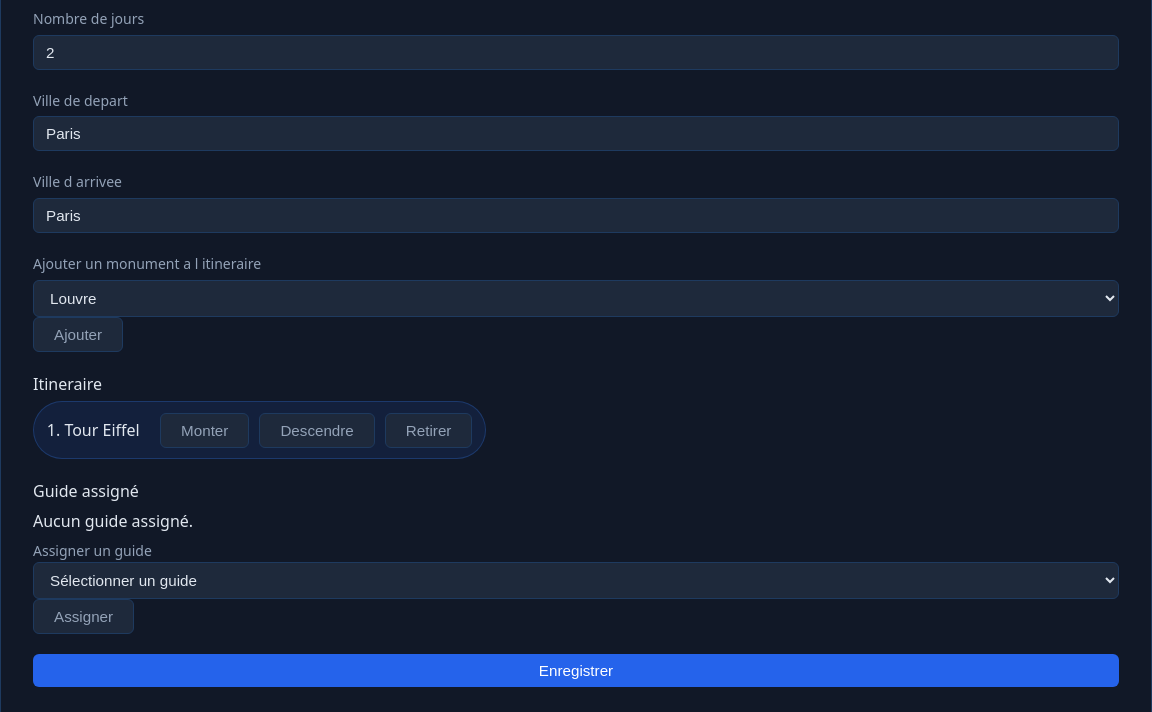
Scenario: ModifierCircuit › affiche le message du backend si la modification echoue
The width and height of the screenshot is (1152, 712).
(page scrolled)
Step 1. Click the button "Enregistrer" → (576, 671), box [33,654,1119,687]
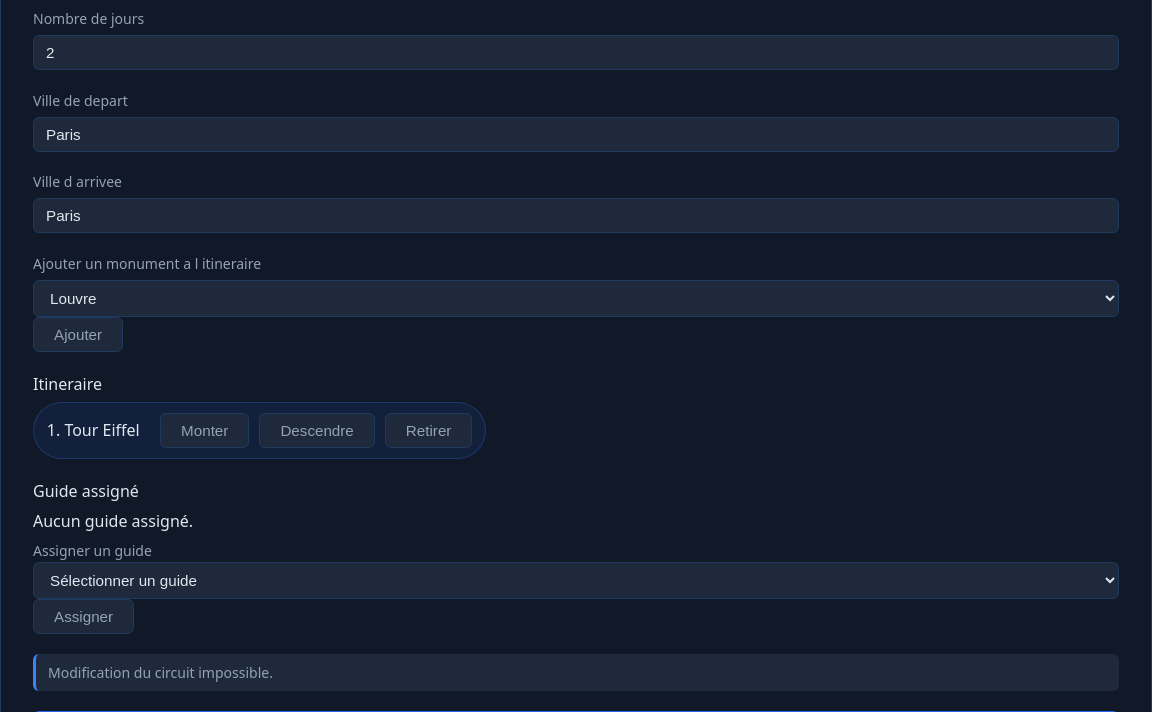
Result: the text "Modification du circuit impossible." is shown at [33,654,1119,691]
